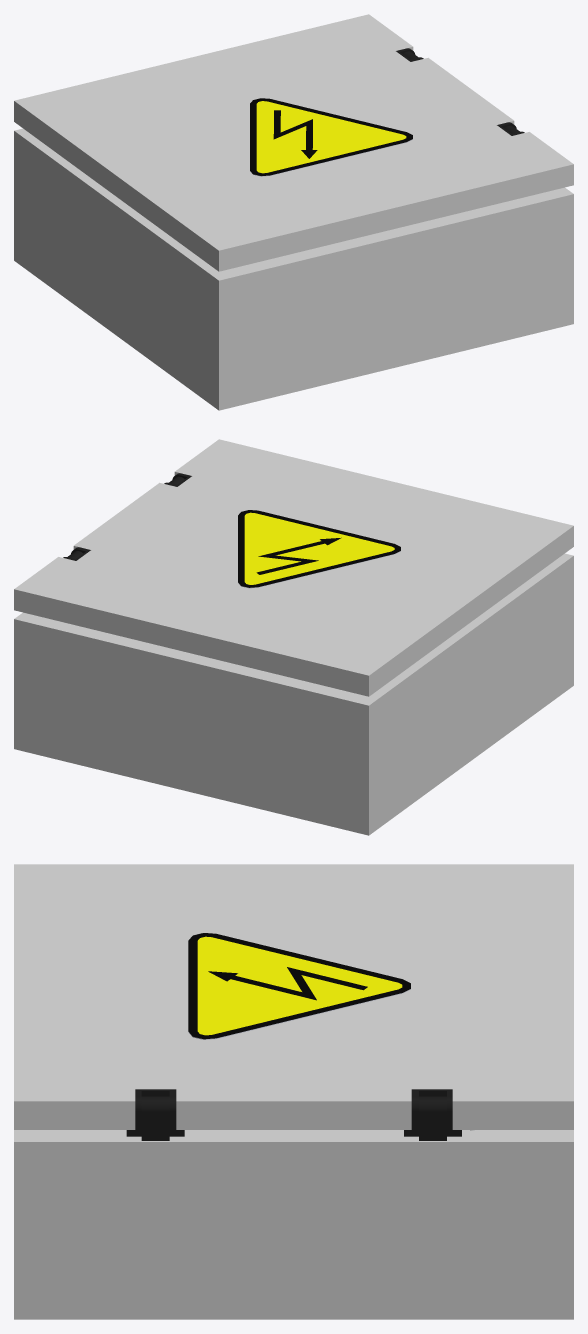
Rendered from electroshelf.glb.
The picture shows the model from 3 angles, top to bottom: view 1: azimuth 30°, elevation 25°; view 2: azimuth 150°, elevation 25°; view 3: azimuth 270°, elevation 25°; orthographic projection. The views are drawn at different scales.
Parts seen in each view (by area): view 1: PAINEL 300 X 300 X 200.SLDASM.001, PAINEL 300 X 300 X 200.SLDASM; view 2: PAINEL 300 X 300 X 200.SLDASM.001, PAINEL 300 X 300 X 200.SLDASM; view 3: PAINEL 300 X 300 X 200.SLDASM.001, PAINEL 300 X 300 X 200.SLDASM, PAINEL 300 X 300 X 200.SLDASM.004, PAINEL 300 X 300 X 200.SLDASM.002, PAINEL 300 X 300 X 200.SLDASM.005, PAINEL 300 X 300 X 200.SLDASM.003.
Part boxes in pixels (<box>): PAINEL 300 X 300 X 200.SLDASM.001: <box>14,14,573,271</box>; PAINEL 300 X 300 X 200.SLDASM: <box>14,128,573,410</box>; PAINEL 300 X 300 X 200.SLDASM.001: <box>14,439,573,696</box>; PAINEL 300 X 300 X 200.SLDASM: <box>14,553,573,835</box>; PAINEL 300 X 300 X 200.SLDASM.001: <box>14,864,573,1129</box>; PAINEL 300 X 300 X 200.SLDASM: <box>14,1130,573,1319</box>; PAINEL 300 X 300 X 200.SLDASM.004: <box>141,1096,169,1140</box>; PAINEL 300 X 300 X 200.SLDASM.002: <box>419,1096,446,1140</box>; PAINEL 300 X 300 X 200.SLDASM.005: <box>126,1089,184,1136</box>; PAINEL 300 X 300 X 200.SLDASM.003: <box>404,1089,461,1136</box>.
Size of the model in its own units: 0.3001 by 0.1296 by 0.3.
